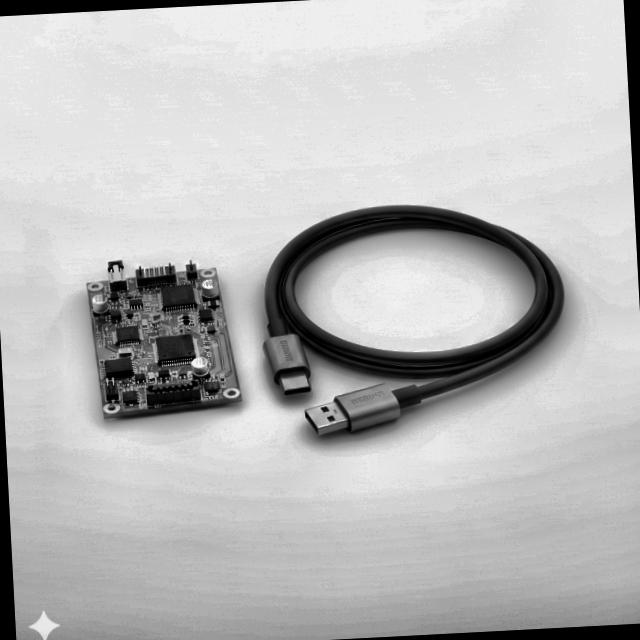Cable: (258, 186, 572, 442)
PCB: (86, 245, 240, 422)
